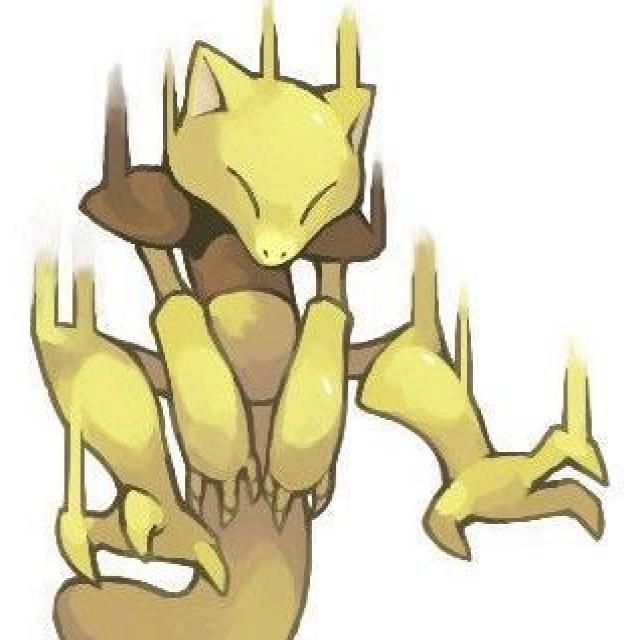Abra: (50, 42, 547, 565)
